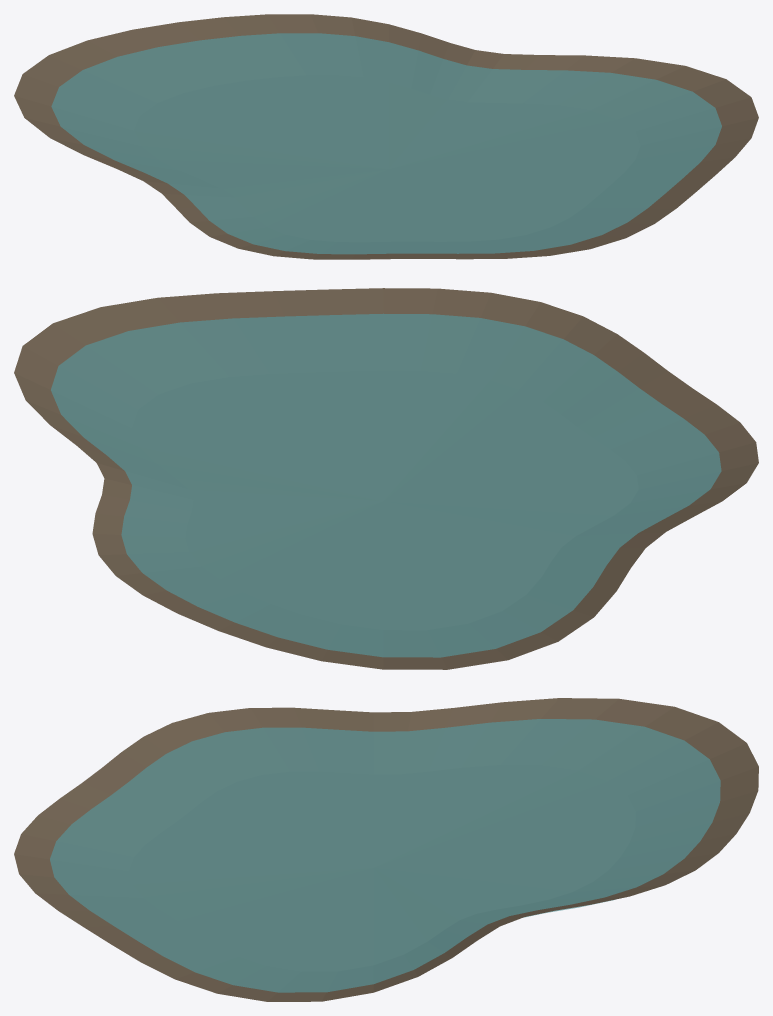
Rendered from pond.glb.
The picture shows the model from 3 angles, top to bottom: view 1: azimuth 30°, elevation 25°; view 2: azimuth 150°, elevation 25°; view 3: azimuth 270°, elevation 25°; orthographic projection. The views are drawn at different scales.
Visible parts, largest first — view 1: pond_basin, pond_water; view 2: pond_basin, pond_water; view 3: pond_basin, pond_water.
Boxes of the visible parts, box(x1,y1,x2,y2) form: pond_basin: box(14, 14, 758, 259); pond_water: box(51, 33, 721, 254); pond_basin: box(14, 288, 758, 669); pond_water: box(51, 313, 721, 657); pond_basin: box(14, 698, 758, 1001); pond_water: box(50, 719, 720, 992).
Bounding box in the file's own units: 12.52 × 0.65 × 12.97.
